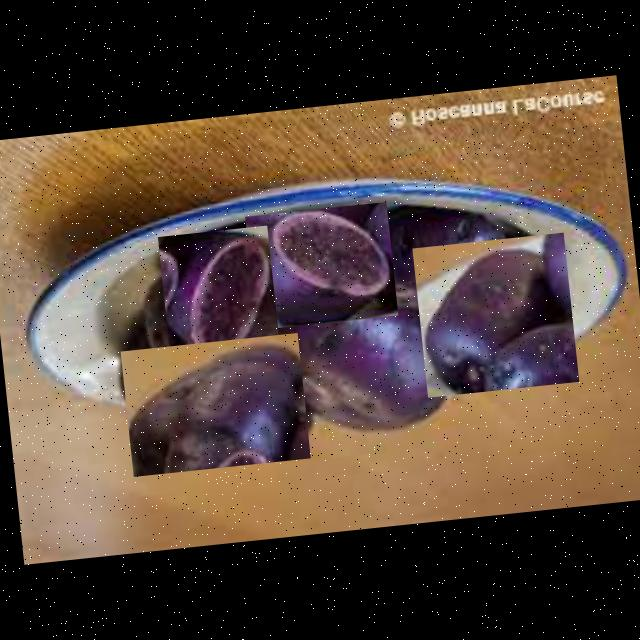Defected potato: (268, 297, 458, 443), (412, 232, 579, 397), (120, 332, 310, 477), (245, 202, 398, 330), (356, 202, 509, 322), (157, 225, 280, 364)
